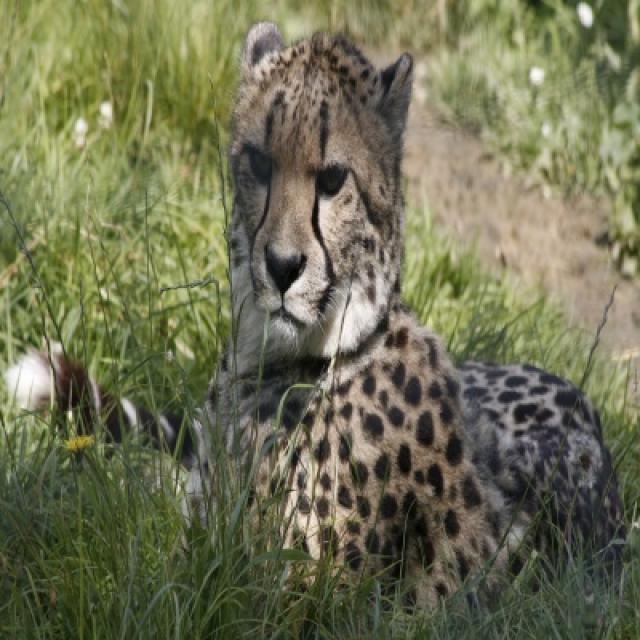Cheetah: (5, 22, 626, 614)
